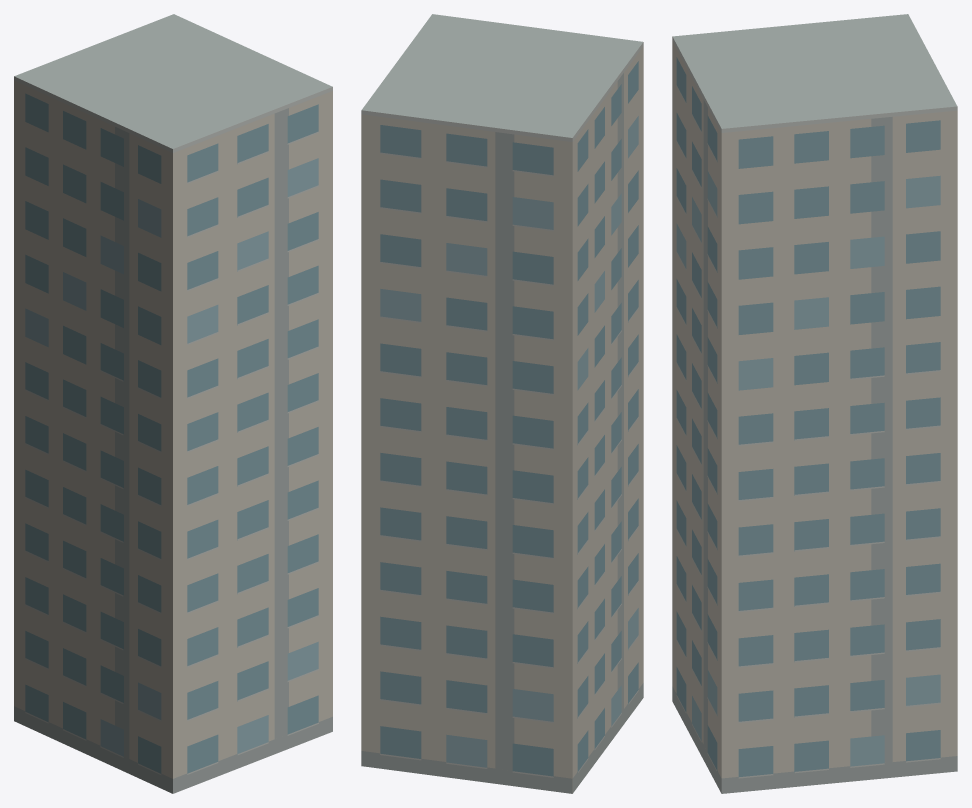
File: residential-b095bd1a-bccc-43b3-9838-8a97b1d20b22.glb
The picture shows the model from 3 angles, left to right: view 1: azimuth 30°, elevation 25°; view 2: azimuth 150°, elevation 25°; view 3: azimuth 270°, elevation 25°; orthographic projection. The views are drawn at different scales.
Visible parts, largest first — view 1: residential-b095bd1a-bccc-43b3-9838-8a97b1d20b22.tmp; view 2: residential-b095bd1a-bccc-43b3-9838-8a97b1d20b22.tmp; view 3: residential-b095bd1a-bccc-43b3-9838-8a97b1d20b22.tmp.
Part boxes in pixels (x1,y1,x2,y2): residential-b095bd1a-bccc-43b3-9838-8a97b1d20b22.tmp: (14,14,332,793); residential-b095bd1a-bccc-43b3-9838-8a97b1d20b22.tmp: (361,14,643,793); residential-b095bd1a-bccc-43b3-9838-8a97b1d20b22.tmp: (672,14,957,793).
Size of the model in its own units: 14.46 by 39 by 15.16.
